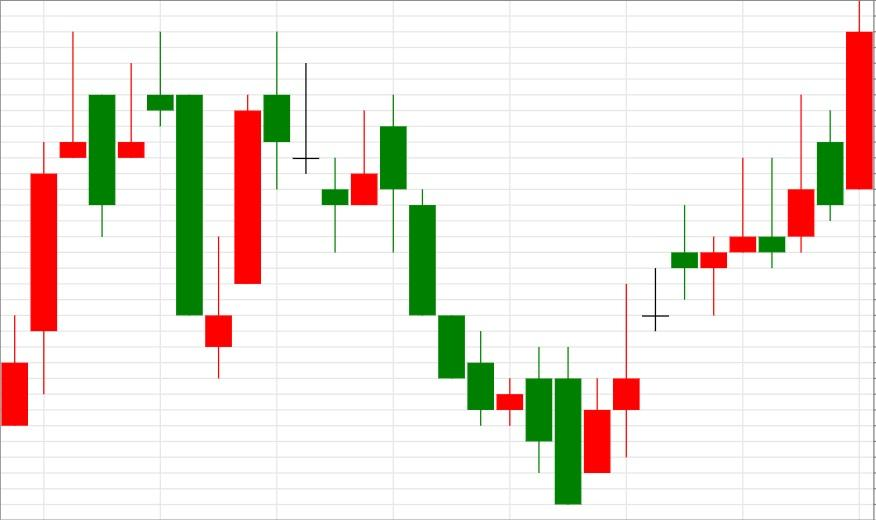shooting_star_fall: (0, 31, 87, 427)
three_black_crows_fall: (321, 93, 466, 379)
